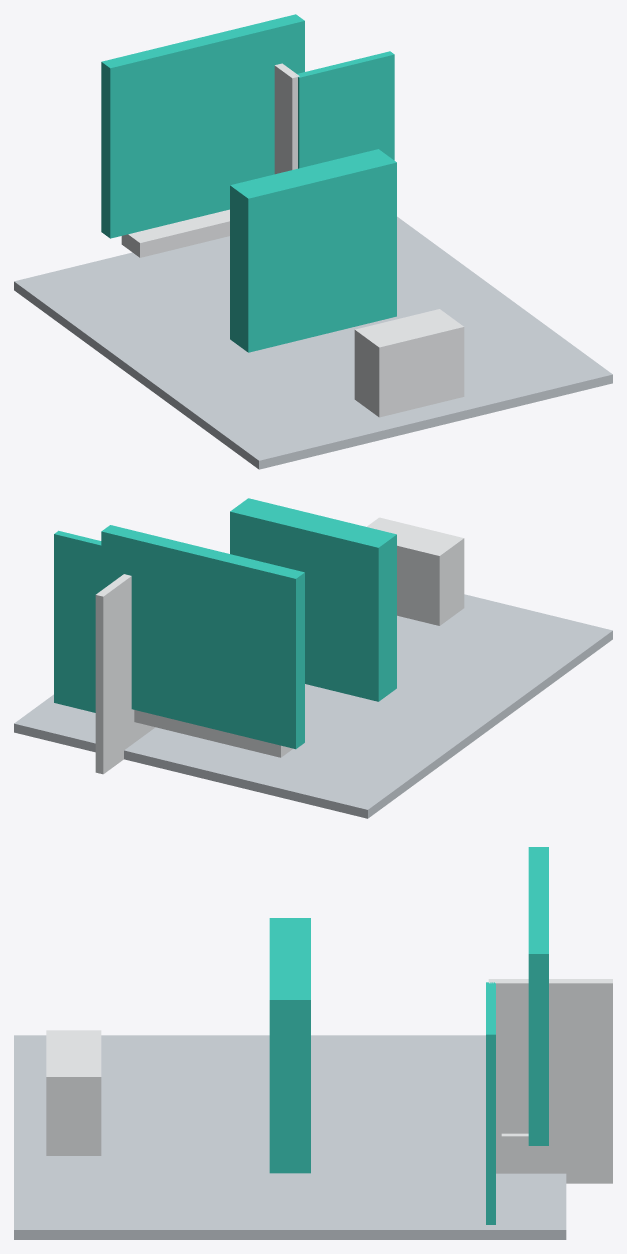
3 views of the same model, one above another, from view 1: azimuth 30°, elevation 25°; view 2: azimuth 150°, elevation 25°; view 3: azimuth 270°, elevation 25° (orthographic). The views are drawn at different scales.
Visible parts, largest first — view 1: Exhibition Booth Concept; view 2: Exhibition Booth Concept; view 3: Exhibition Booth Concept.
Part boxes in pixels (x1,y1,x2,y2): Exhibition Booth Concept: (14, 14, 612, 469); Exhibition Booth Concept: (14, 498, 612, 818); Exhibition Booth Concept: (14, 847, 612, 1239).
Size of the model in its own units: 5 by 2.9 by 6.51.
